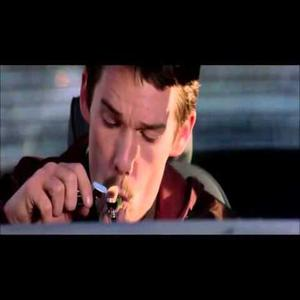cigarette: (106, 196, 121, 219)
